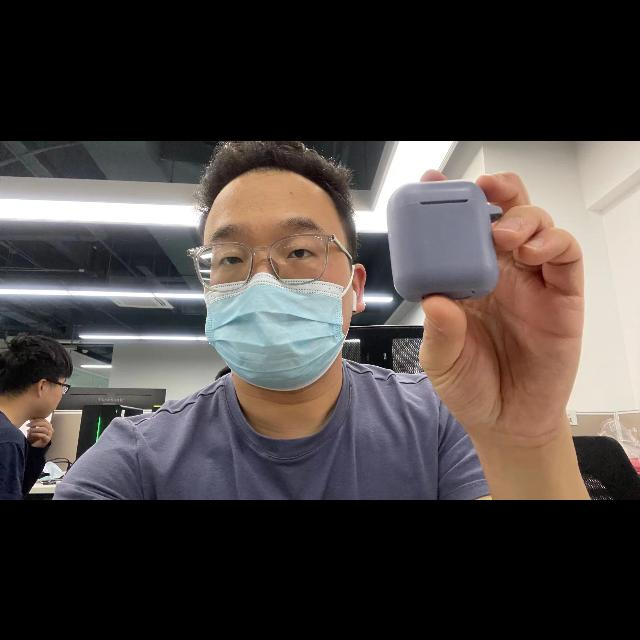airpods: (387, 179, 501, 302)
